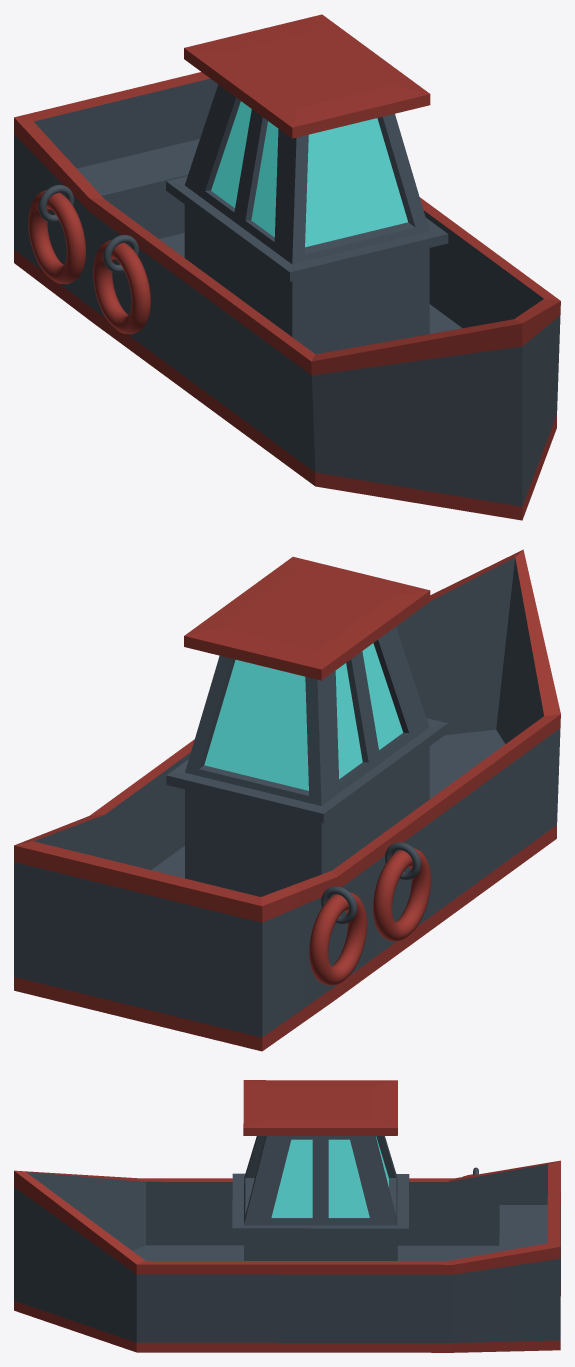
File: boat.glb
3 views of the same model, one above another, from view 1: azimuth 30°, elevation 25°; view 2: azimuth 150°, elevation 25°; view 3: azimuth 270°, elevation 25° (orthographic). The views are drawn at different scales.
Parts seen in each view (by area): view 1: Cube, Torus, Torus005; view 2: Cube, Torus005, Torus; view 3: Cube.
Part boxes in pixels (<box>): Cube: <box>14,14,560,520</box>; Torus: <box>28,190,85,284</box>; Torus005: <box>93,240,150,334</box>; Cube: <box>14,549,560,1051</box>; Torus005: <box>373,847,430,941</box>; Torus: <box>309,892,366,985</box>; Cube: <box>14,1080,560,1352</box>.
Size of the model in its own units: 7.21 by 7.09 by 16.94.
